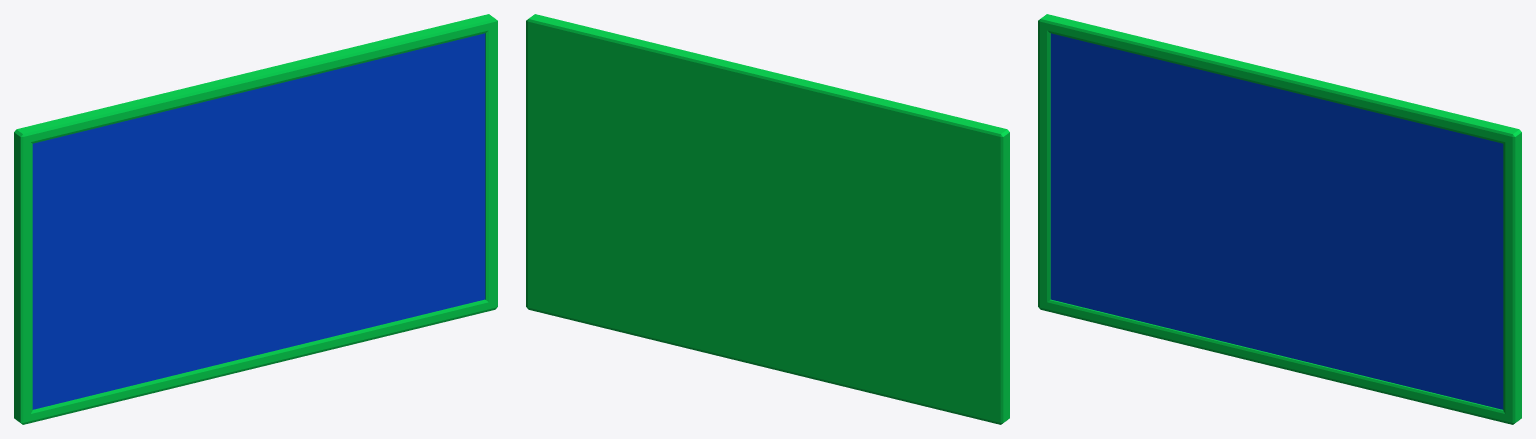
Rendered from Screen01.fbx.
3 renders of one model, left to right at view 1: azimuth 30°, elevation 25°; view 2: azimuth 150°, elevation 25°; view 3: azimuth 330°, elevation 25°, orthographic.
Parts seen in each view (by area): view 1: Screen01; view 2: Screen01; view 3: Screen01.
Boxes of the visible parts, bbox=[...] form: Screen01: bbox=[14, 14, 497, 424]; Screen01: bbox=[526, 14, 1009, 424]; Screen01: bbox=[1038, 14, 1521, 424].
Size of the model in its own units: 561 by 326 by 15.39.
